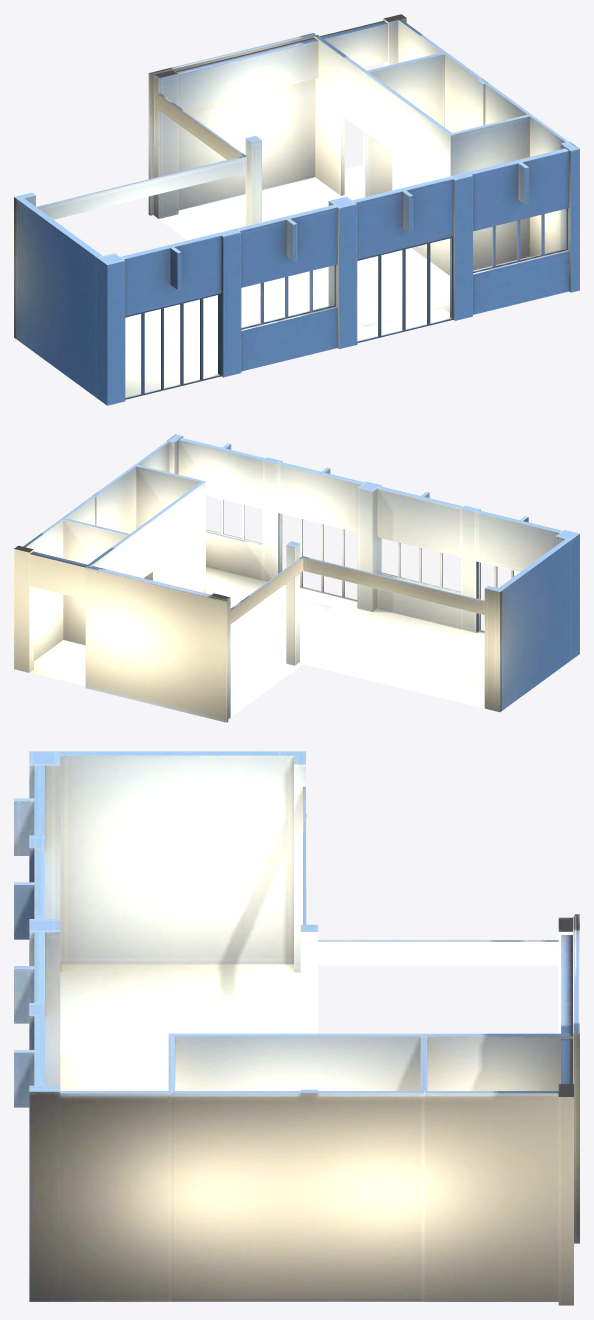
3 views of the same model, one above another, from view 1: azimuth 30°, elevation 25°; view 2: azimuth 150°, elevation 25°; view 3: azimuth 270°, elevation 25° (orthographic). The views are drawn at different scales.
Parts seen in each view (by area): view 1: hc_1floor_room018_1_1, hc_1floor_room019_1_2, hc_1floor_room020_1_3; view 2: hc_1floor_room018_1_1, hc_1floor_room020_1_3, hc_1floor_room019_1_2; view 3: hc_1floor_room018_1_1, hc_1floor_room019_1_2, hc_1floor_room020_1_3.
Boxes of the visible parts, x1=… form: hc_1floor_room018_1_1: x1=14, y1=33, x2=579, y2=405; hc_1floor_room019_1_2: x1=366, y1=52, x2=531, y2=196; hc_1floor_room020_1_3: x1=316, y1=14, x2=446, y2=200; hc_1floor_room018_1_1: x1=85, y1=434, x2=579, y2=722; hc_1floor_room020_1_3: x1=14, y1=518, x2=130, y2=686; hc_1floor_room019_1_2: x1=62, y1=465, x2=202, y2=580; hc_1floor_room018_1_1: x1=14, y1=751, x2=579, y2=1301; hc_1floor_room019_1_2: x1=171, y1=1035, x2=423, y2=1301; hc_1floor_room020_1_3: x1=424, y1=1035, x2=573, y2=1305.
Bounding box in the file's own units: 1.86 × 0.525 × 1.28.
